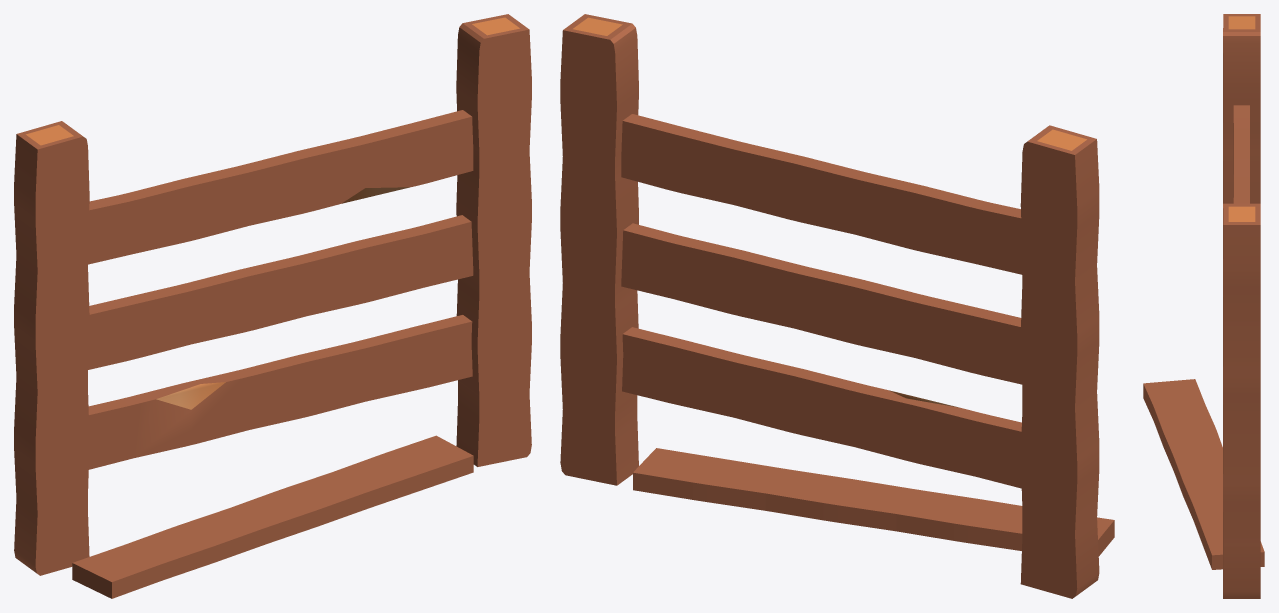
File: Cerca4.fbx
The picture shows the model from 3 angles, left to right: view 1: azimuth 30°, elevation 25°; view 2: azimuth 150°, elevation 25°; view 3: azimuth 270°, elevation 25°; orthographic projection. The views are drawn at different scales.
Visible parts, largest first — view 1: Cerca4, Cerca4.001; view 2: Cerca4, Cerca4.001; view 3: Cerca4, Cerca4.001.
Boxes of the visible parts, bbox=[...] form: Cerca4: bbox=[14, 14, 531, 575]; Cerca4.001: bbox=[72, 435, 473, 598]; Cerca4: bbox=[560, 14, 1099, 598]; Cerca4.001: bbox=[633, 448, 1114, 556]; Cerca4: bbox=[1223, 14, 1260, 598]; Cerca4.001: bbox=[1143, 379, 1264, 569].
Size of the model in its own units: 1.14 by 0.9448 by 0.276.
